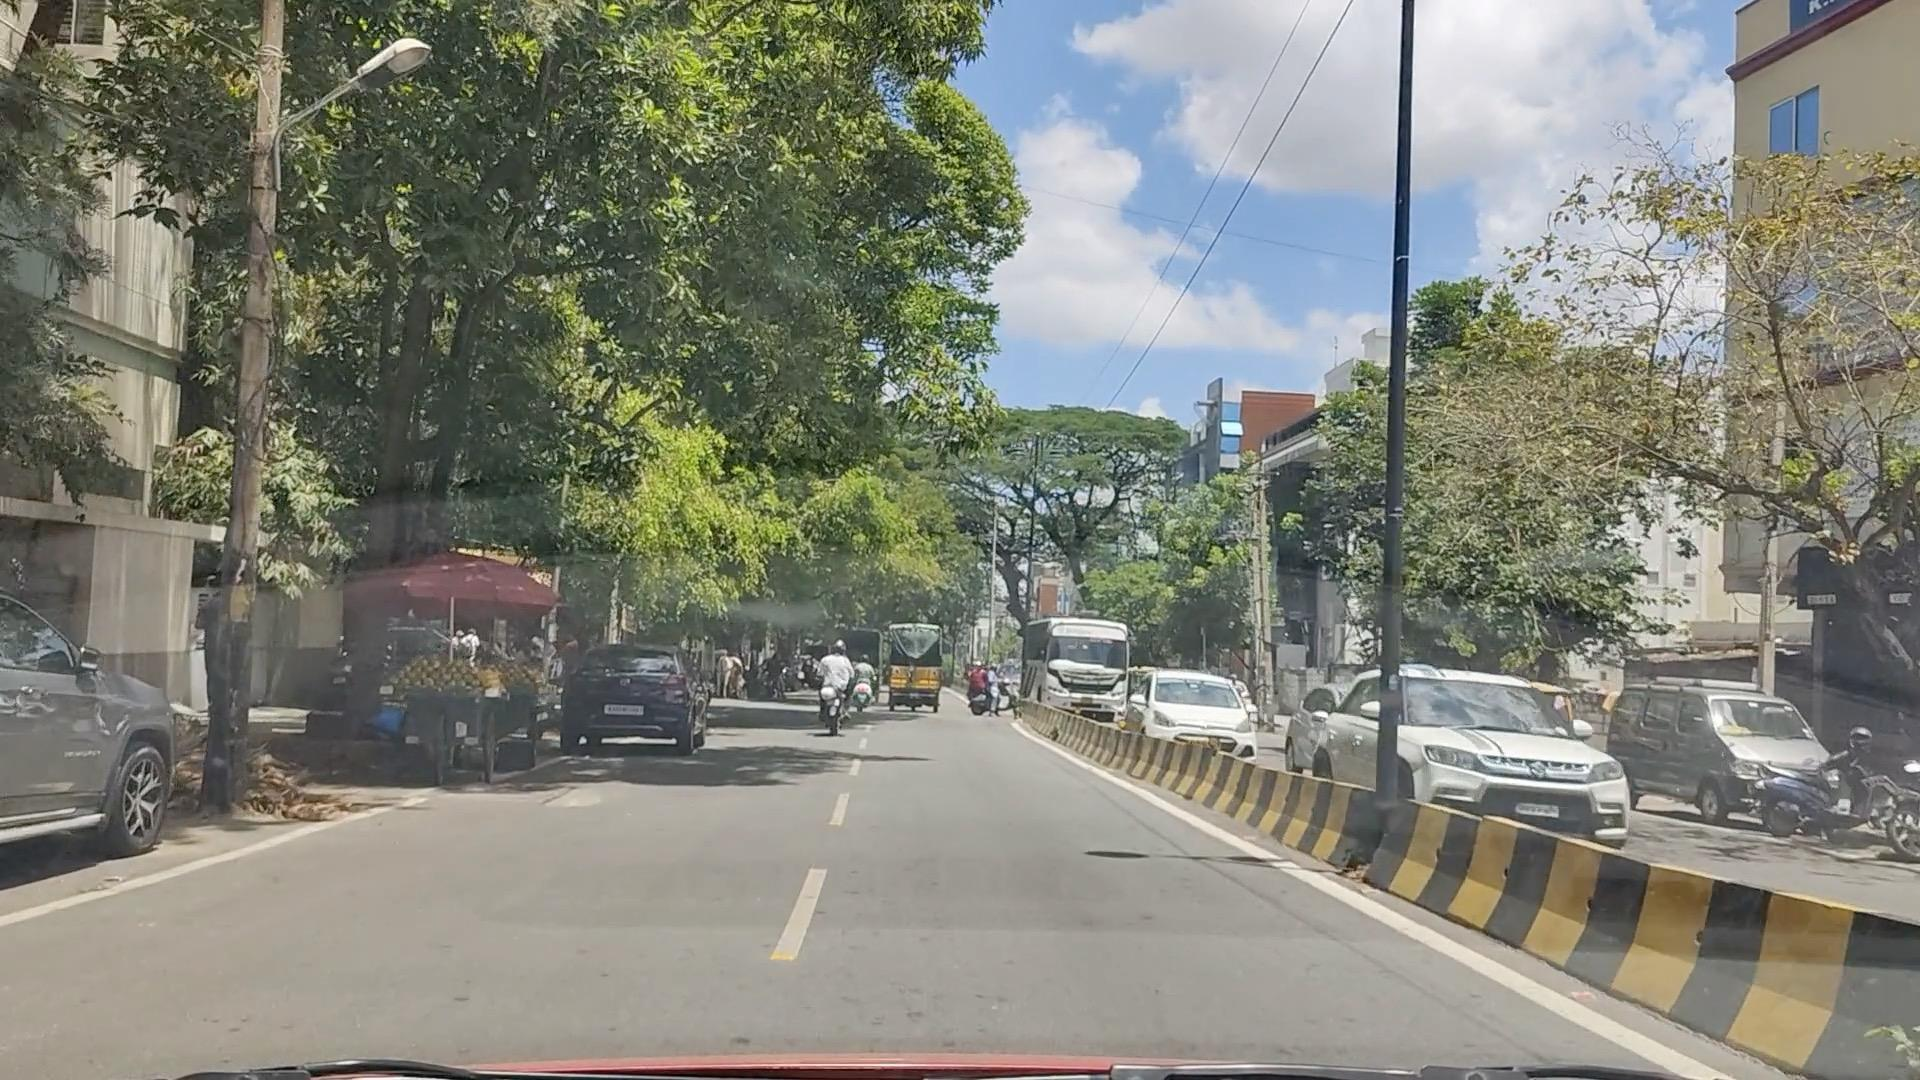LMV: (583, 617, 752, 779), (817, 630, 853, 715)
